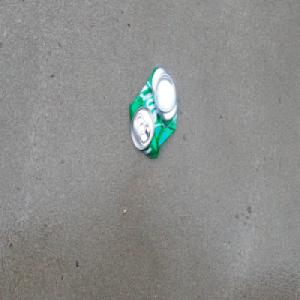SodaCan: (127, 63, 179, 160)
